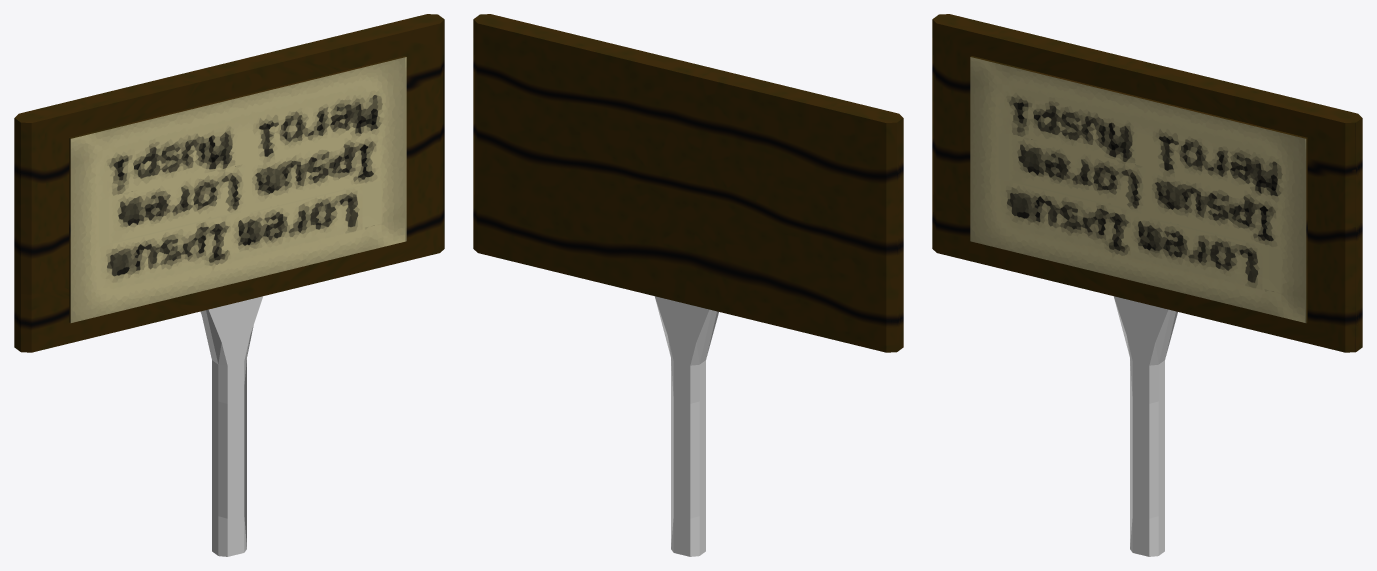
File: Sign.fbx
3 renders of one model, left to right at view 1: azimuth 30°, elevation 25°; view 2: azimuth 150°, elevation 25°; view 3: azimuth 330°, elevation 25°, orthographic.
Parts seen in each view (by area): view 1: Cube; view 2: Cube; view 3: Cube.
Part boxes in pixels (box(x1,y1,x2,y2)): Cube: box(14, 14, 444, 556); Cube: box(473, 14, 903, 556); Cube: box(932, 14, 1362, 556).
Bounding box in the file's own units: 386 × 420 × 24.71.
3 materials, 2 textured.
